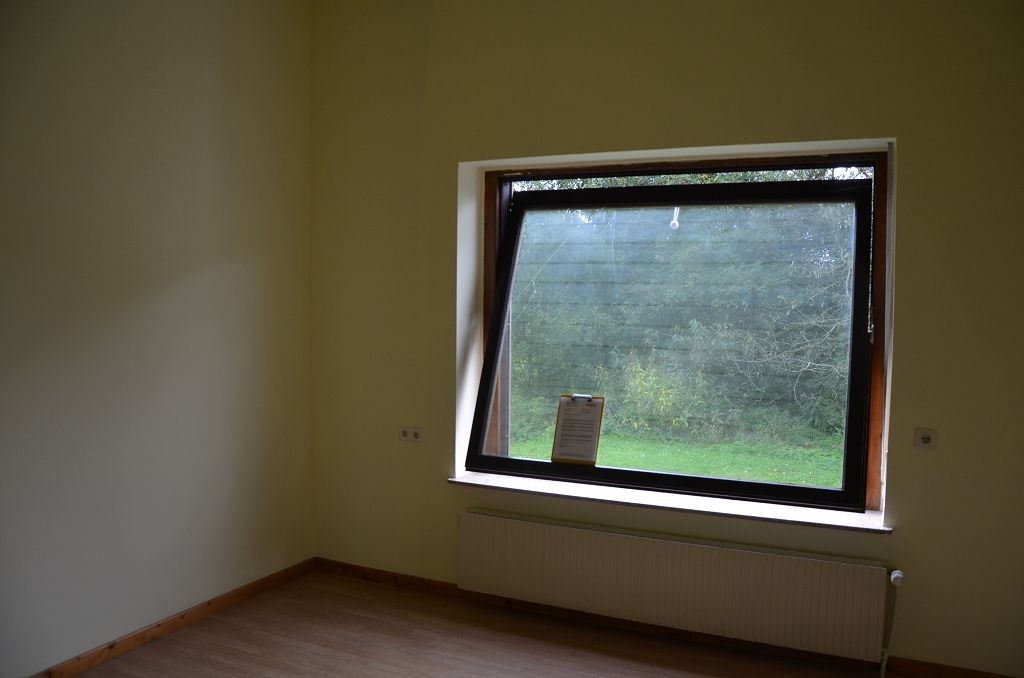windows: (461, 161, 891, 537)
